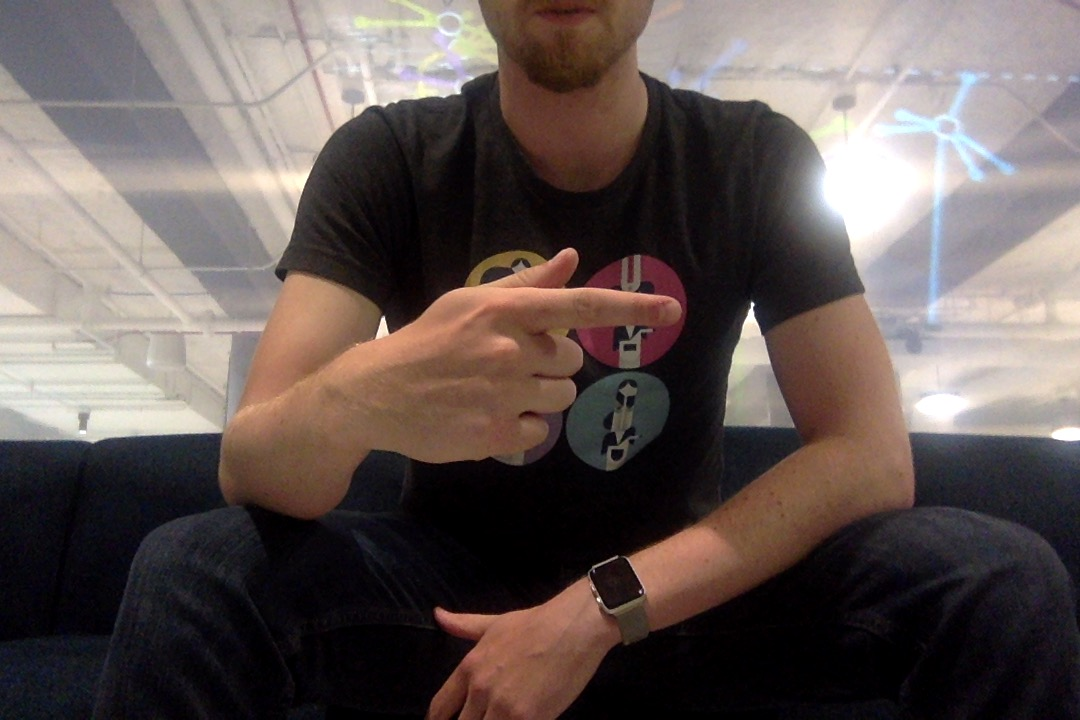g: (355, 243, 688, 474)
